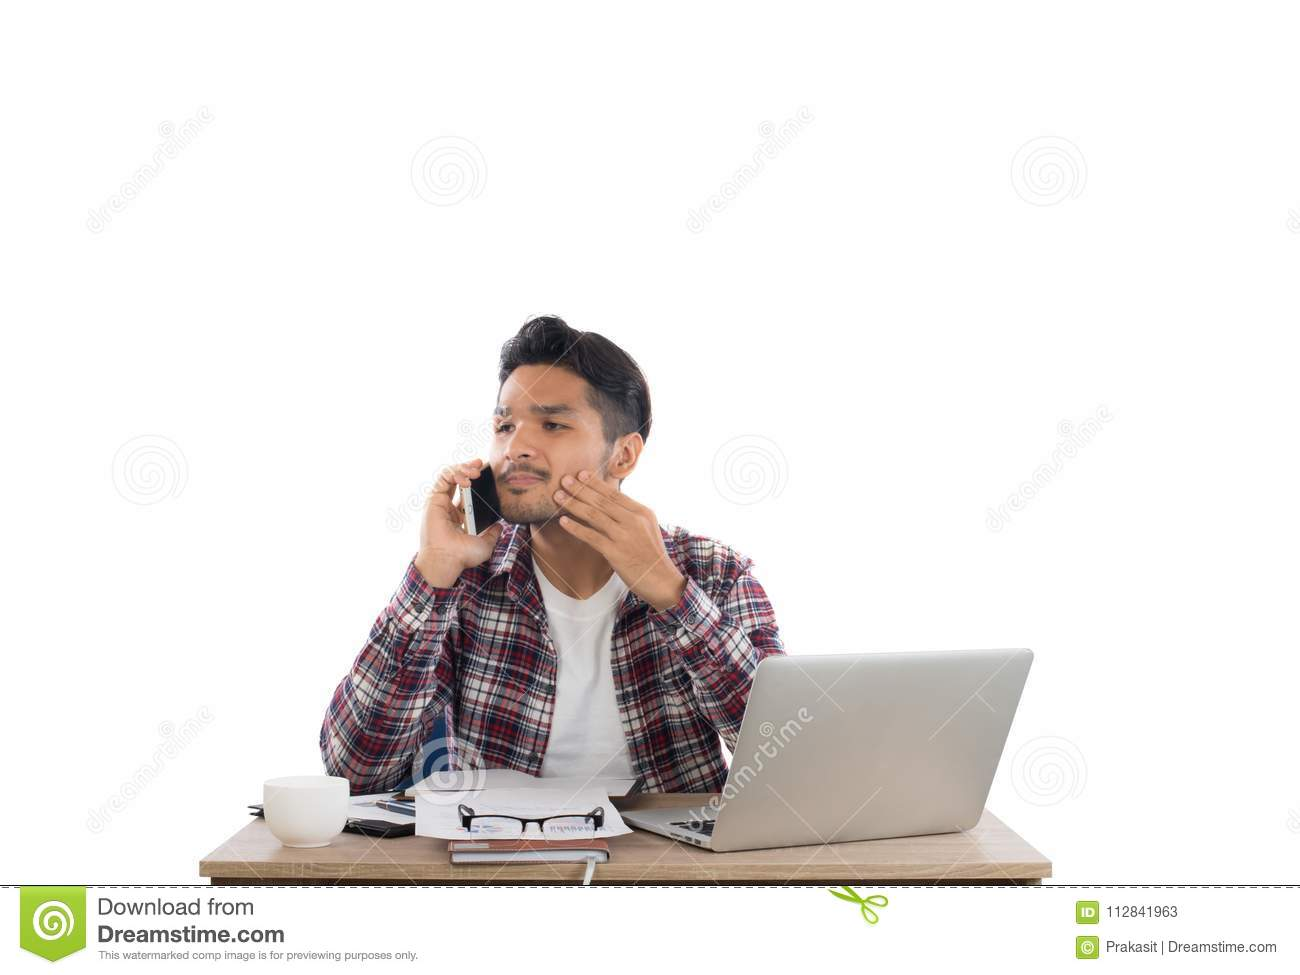phone: (458, 455, 502, 541)
talk: (424, 391, 599, 578)
